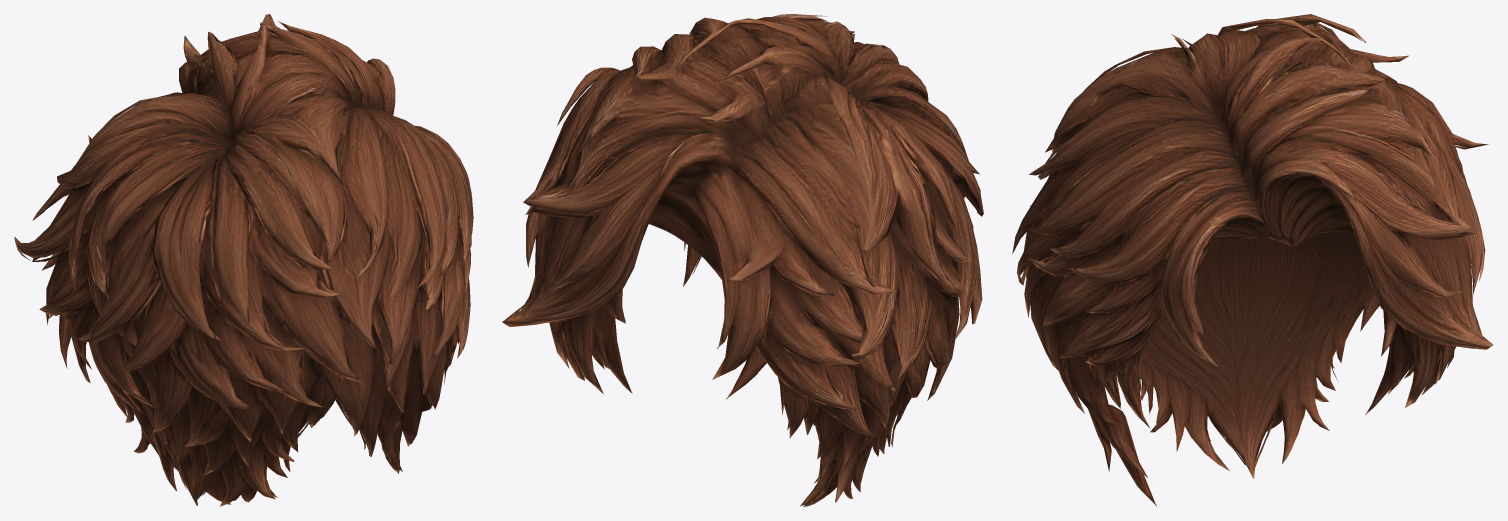
The model's file is toben.glb.
The picture shows the model from 3 angles, left to right: view 1: azimuth 30°, elevation 25°; view 2: azimuth 150°, elevation 25°; view 3: azimuth 270°, elevation 25°; orthographic projection. The views are drawn at different scales.
Visible parts, largest first — view 1: tripo_node_32610424-3e59-4ec6-a458-621820ae5899; view 2: tripo_node_32610424-3e59-4ec6-a458-621820ae5899; view 3: tripo_node_32610424-3e59-4ec6-a458-621820ae5899.
Part boxes in pixels (bbox=[...]): tripo_node_32610424-3e59-4ec6-a458-621820ae5899: bbox=[14, 14, 473, 506]; tripo_node_32610424-3e59-4ec6-a458-621820ae5899: bbox=[502, 14, 983, 506]; tripo_node_32610424-3e59-4ec6-a458-621820ae5899: bbox=[1012, 14, 1493, 506].
Size of the model in its own units: 0.8125 by 0.9834 by 0.8837.
Materials: 1 (1 with a texture image).
